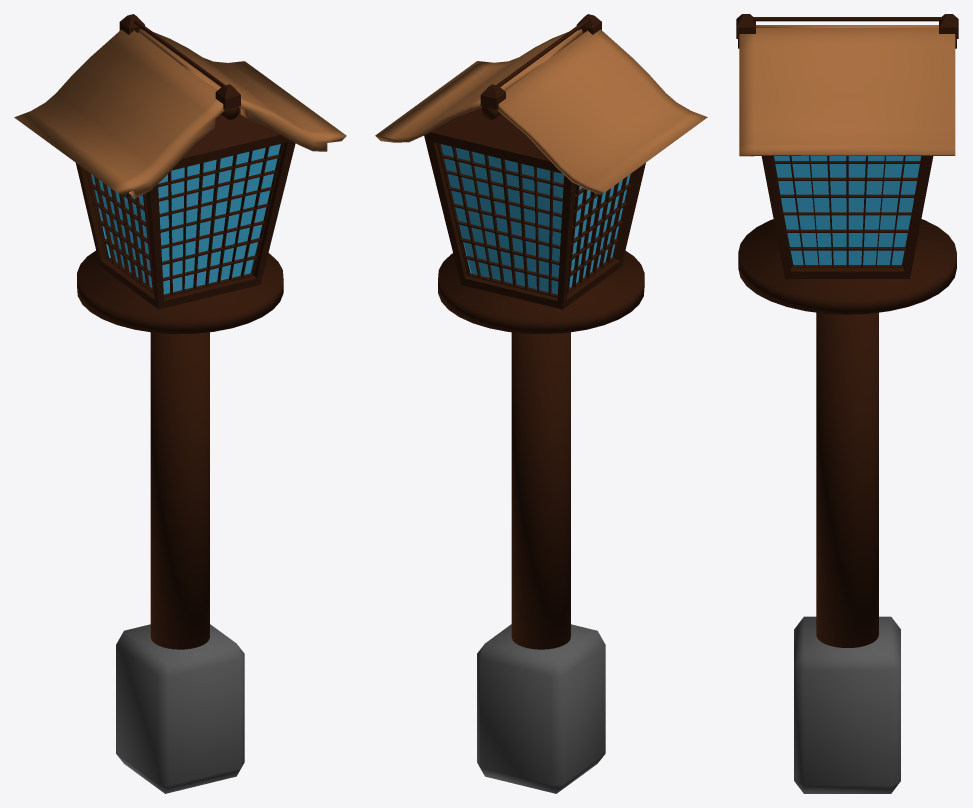
Rendered from JampanLamp.fbx.
3 renders of one model, left to right at view 1: azimuth 30°, elevation 25°; view 2: azimuth 150°, elevation 25°; view 3: azimuth 270°, elevation 25°, orthographic. The views are drawn at different scales.
Parts seen in each view (by area): view 1: Cube.005; view 2: Cube.005; view 3: Cube.005.
Part boxes in pixels (x1,y1,x2,y2): Cube.005: [14, 14, 346, 793]; Cube.005: [375, 14, 707, 793]; Cube.005: [736, 14, 958, 793].
Size of the model in its own units: 46.91 by 140 by 37.08.
